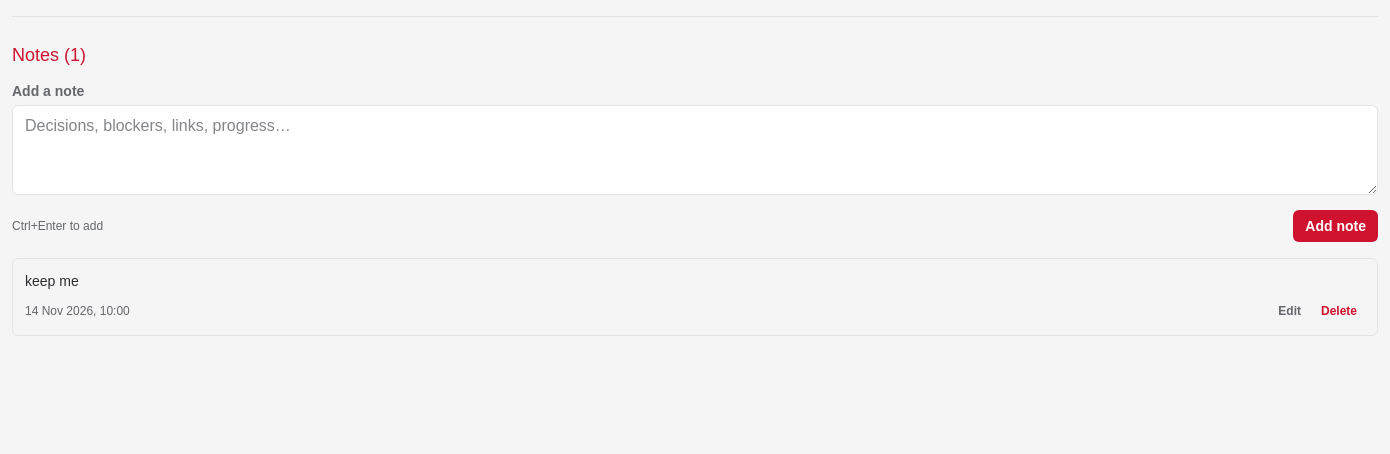
Test: NotesSection › can cancel an edit without saving
This screenshot has width=1390, height=454.
Click the button "Edit": (1290, 311) [1270,299,1309,323]
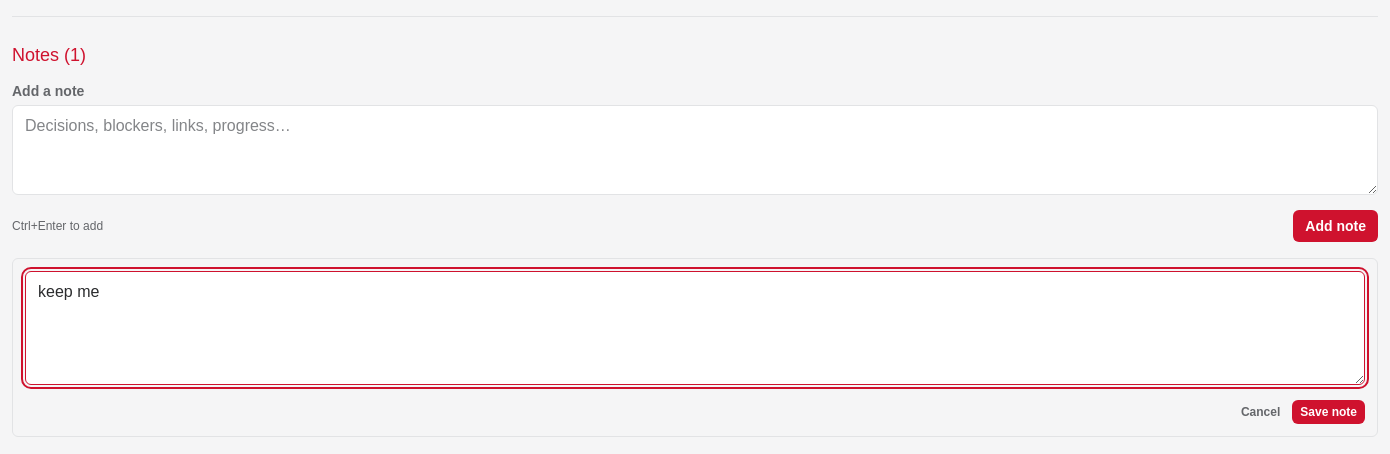
In the text box named "Edit note": (695, 328) [25,271,1365,385], type " changed"
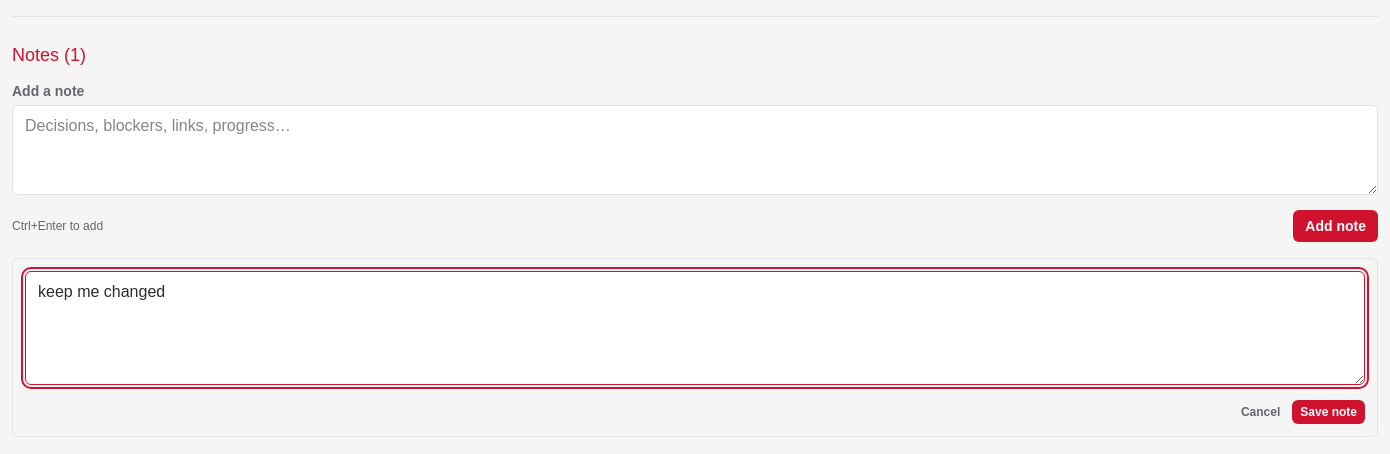
Click the button "Cancel": (1261, 412) [1233,400,1288,424]
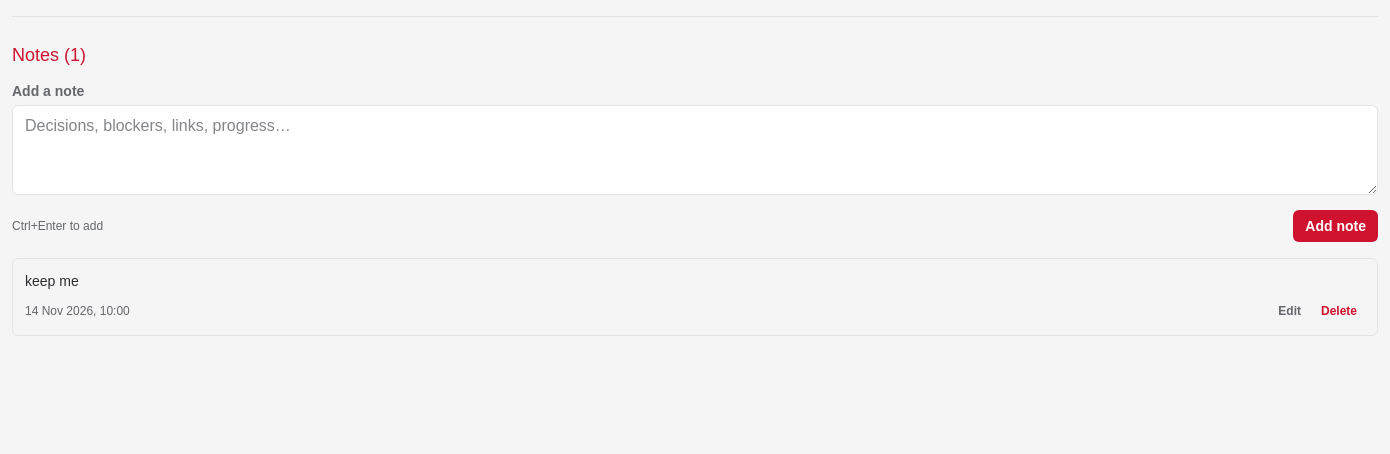
Check: the text "keep me" is shown, box [25,273,79,289]
